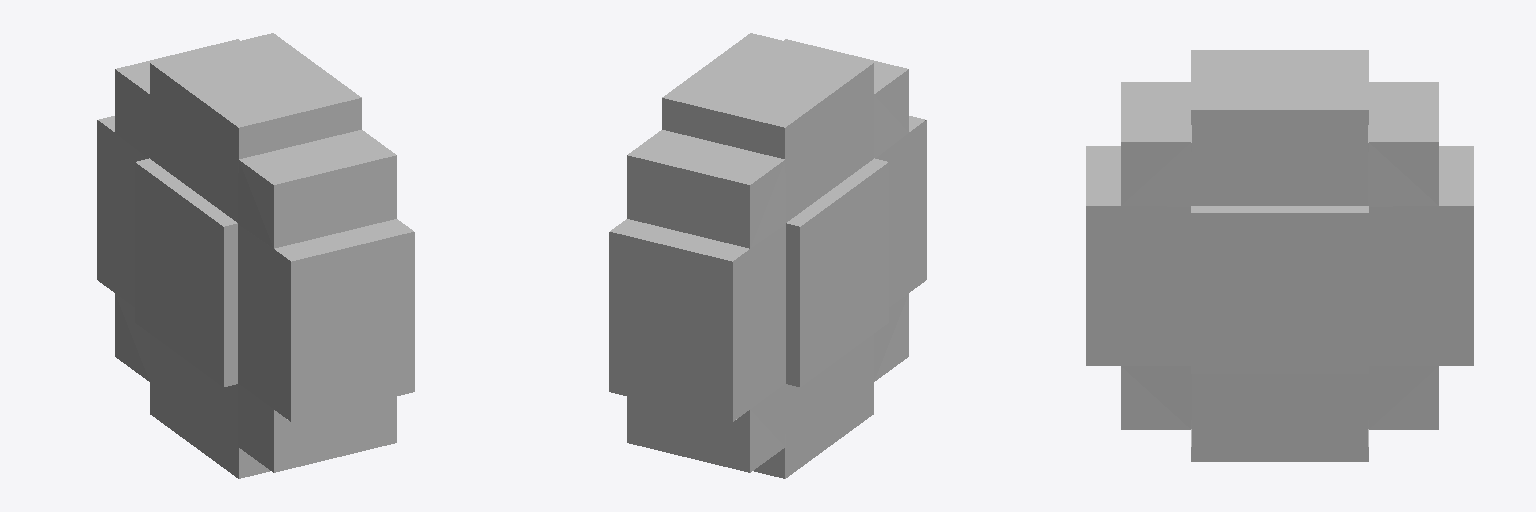
File: wheelmedium.obj
3 renders of one model, left to right at view 1: azimuth 30°, elevation 25°; view 2: azimuth 150°, elevation 25°; view 3: azimuth 270°, elevation 25°, orthographic.
Parts seen in each view (by area): view 1: #translucent_mudAcc_tire, #translucent_mudAcc_rim; view 2: #translucent_mudAcc_tire, #translucent_mudAcc_rim; view 3: #translucent_mudAcc_tire, #translucent_mudAcc_rim.
Boxes of the visible parts, <box> form: #translucent_mudAcc_tire: <box>97,33,414,478</box>; #translucent_mudAcc_rim: <box>135,158,237,386</box>; #translucent_mudAcc_tire: <box>609,33,926,478</box>; #translucent_mudAcc_rim: <box>786,158,888,386</box>; #translucent_mudAcc_tire: <box>1086,50,1473,461</box>; #translucent_mudAcc_rim: <box>1191,206,1368,373</box>.
Size of the model in its own units: 0.3161 by 0.6911 by 0.6911.